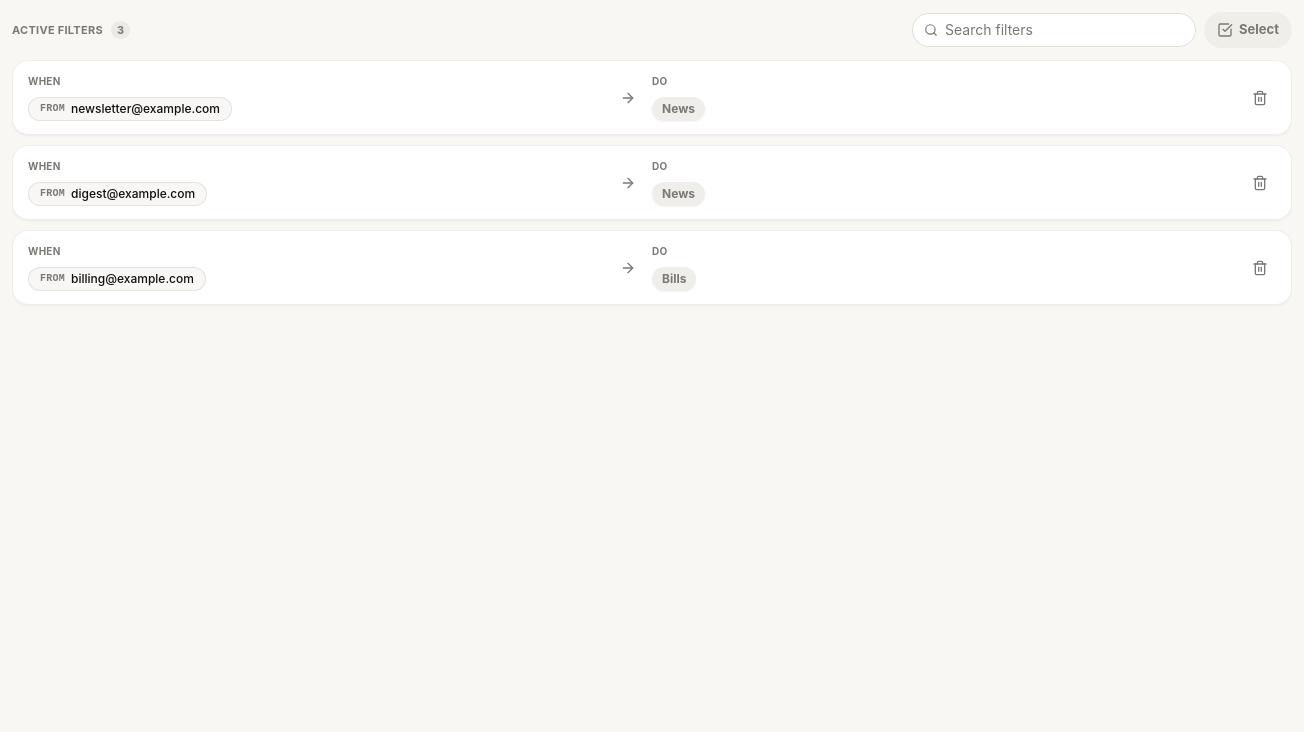
what happens after the merge › failure shows the endpoint's sentence and keeps the selection and the confirm
Click the button with aria-label "Enter select mode" at (1248, 30), box [1204, 12, 1292, 48]
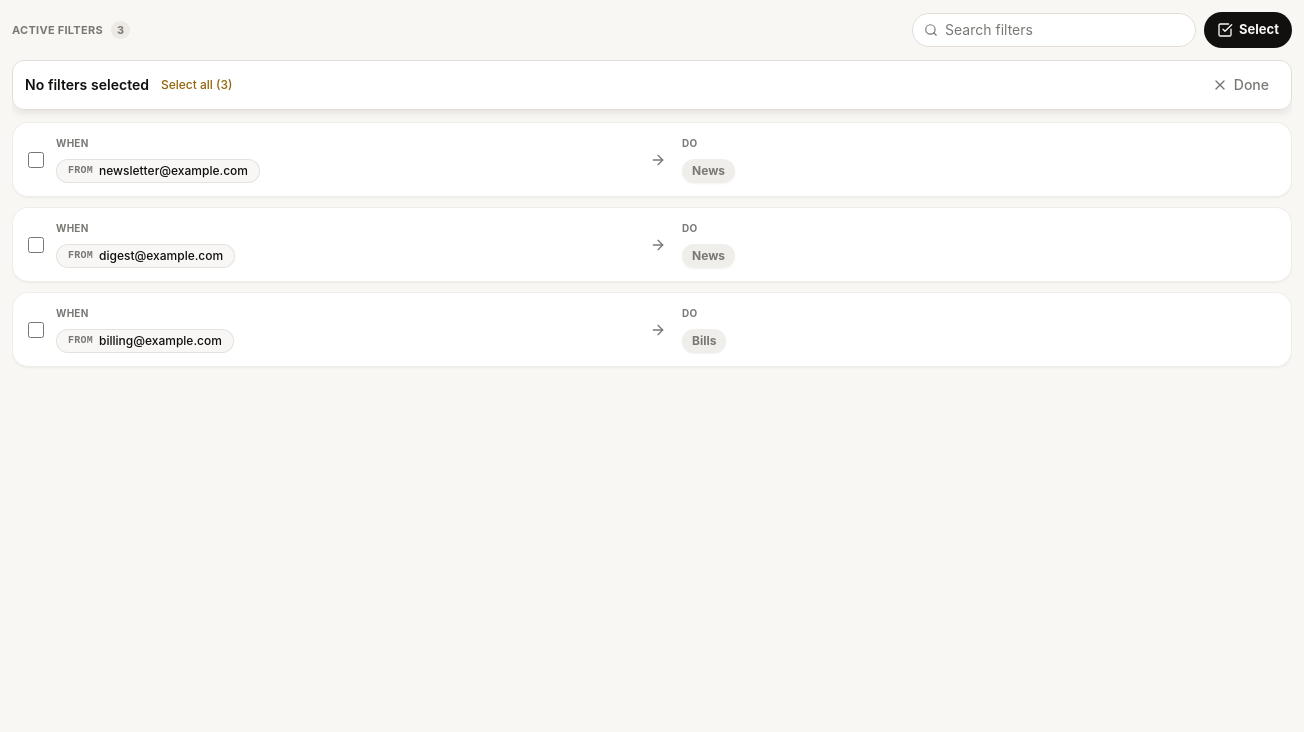
Click the checkbox named "Select filter" in the row of "newsletter@example.com" at (36, 160), box [28, 152, 44, 168]
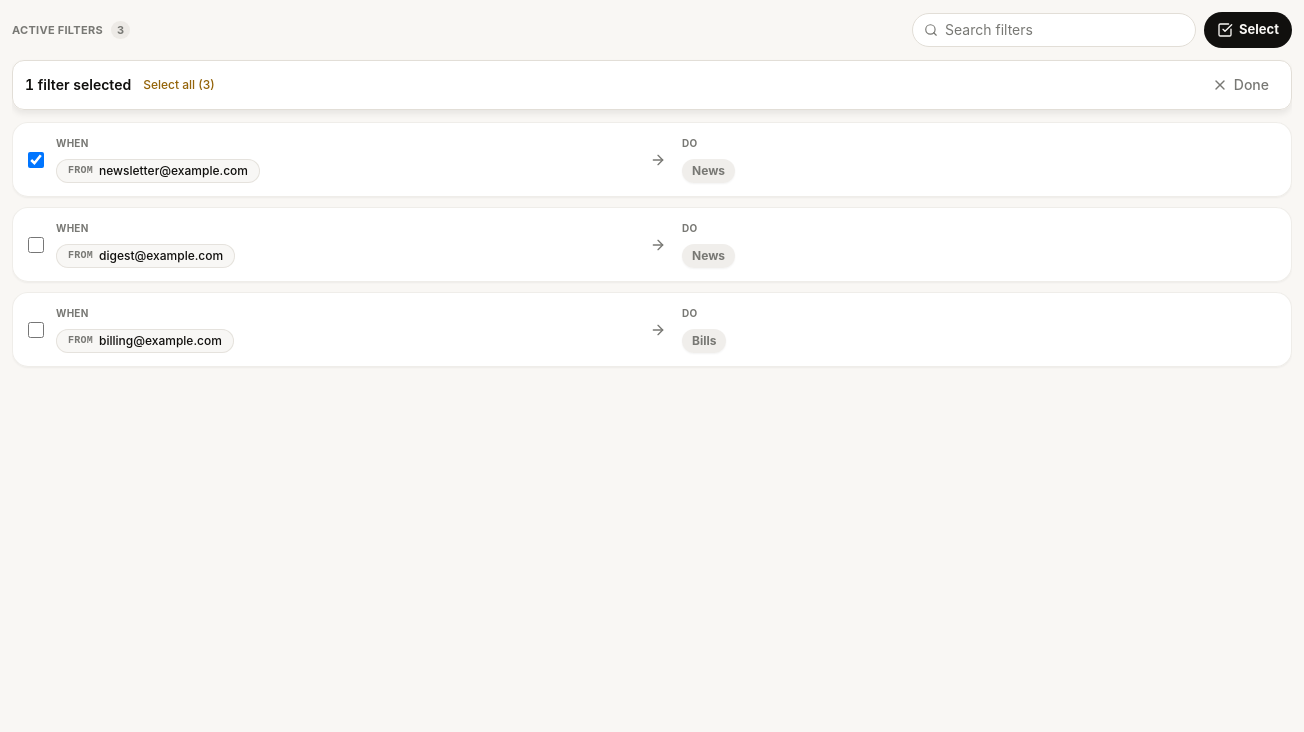
Click the checkbox named "Select filter" in the row of "digest@example.com" at (36, 244), box [28, 236, 44, 252]
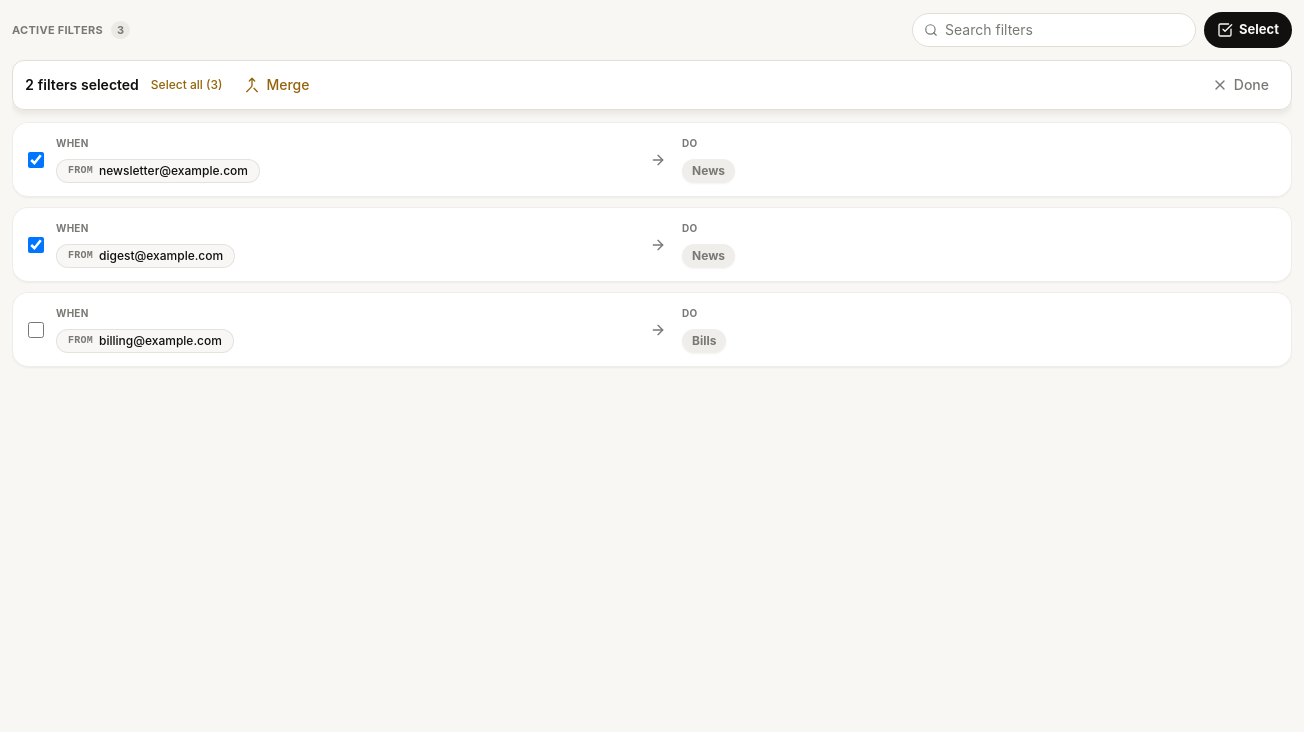
Click the button "Merge" at (277, 85), box [234, 69, 319, 101]
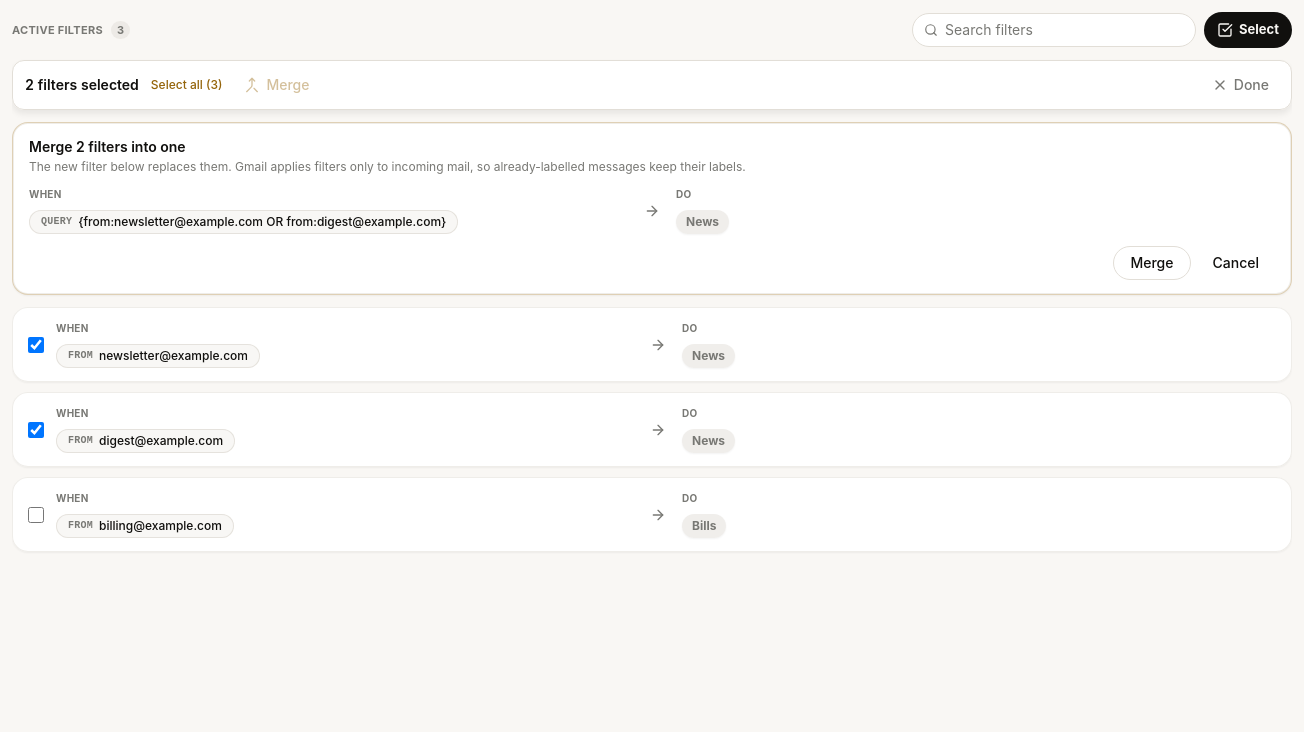
Click the 2nd button "Merge" at (1152, 263), box [1114, 246, 1190, 280]
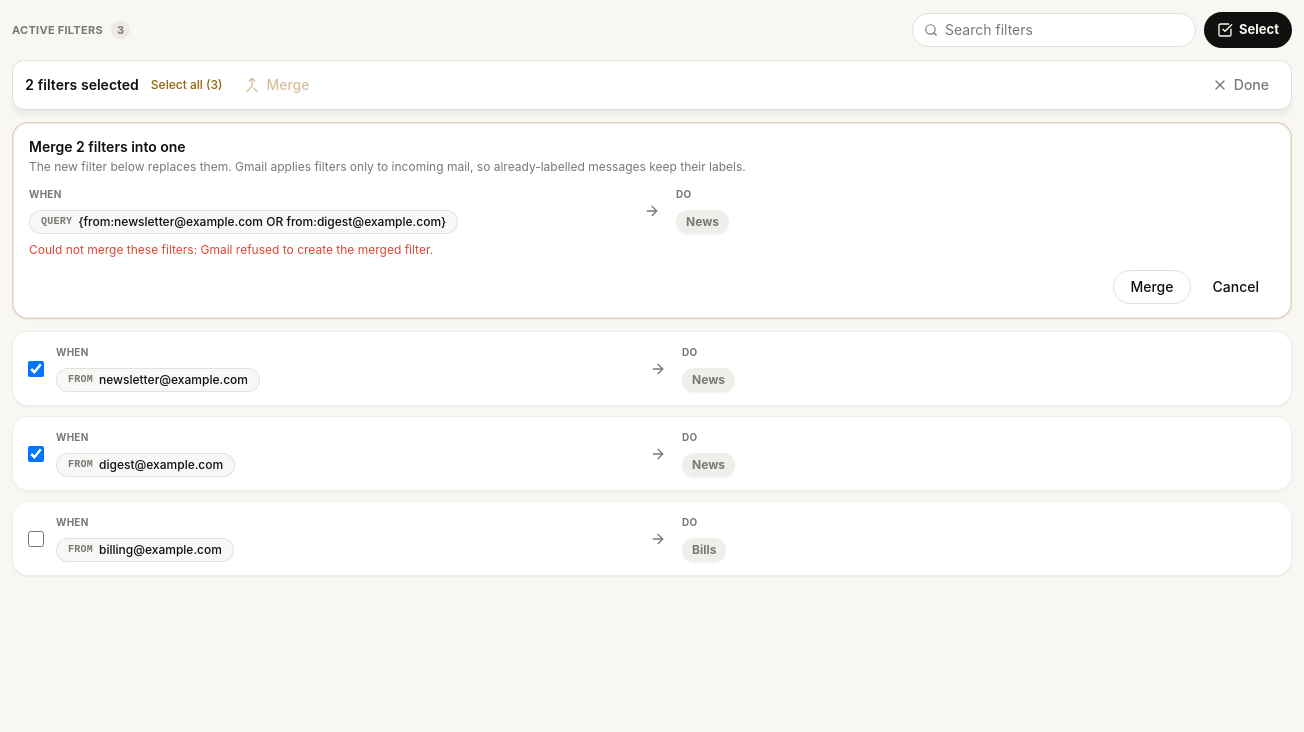
Expected: the text "2 filters selected" is shown, [25, 75, 139, 95]
Expected: the 2nd button "Merge" is shown, [1114, 270, 1190, 304]
Expected: the text "Gmail refused to create the merged filter." is shown, [200, 242, 433, 257]
